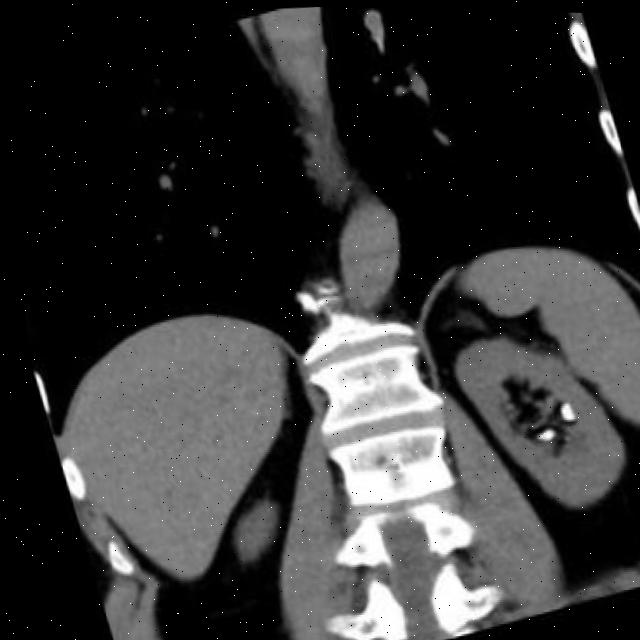Tas_Var: (550, 397, 569, 422), (523, 424, 549, 440), (554, 429, 566, 440)
